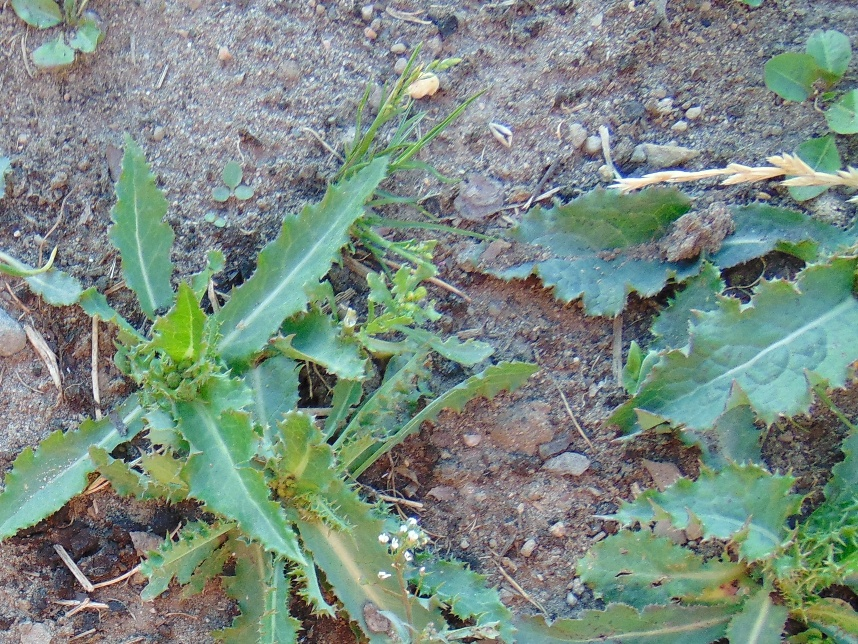crop: (624, 339, 658, 396)
weed: (27, 169, 470, 643), (465, 167, 858, 644), (760, 27, 858, 201), (9, 1, 104, 67), (210, 160, 254, 203)
